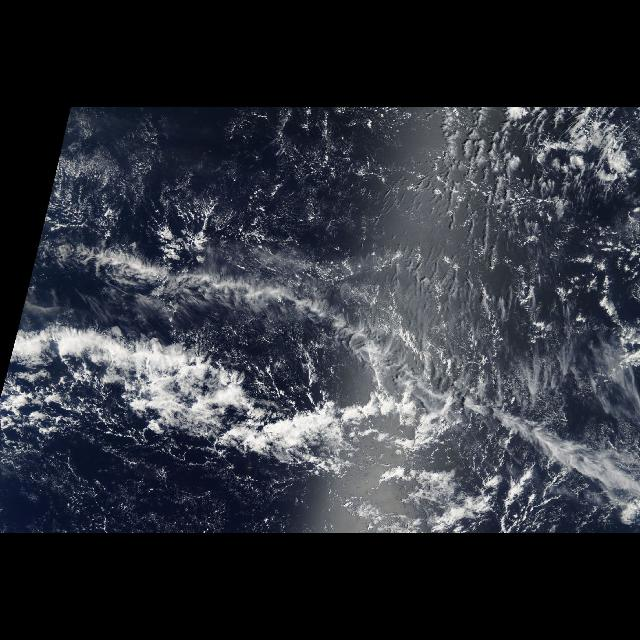Fish: (5, 210, 488, 526)
Gravel: (274, 114, 640, 326)
Sugar: (160, 112, 628, 320)
